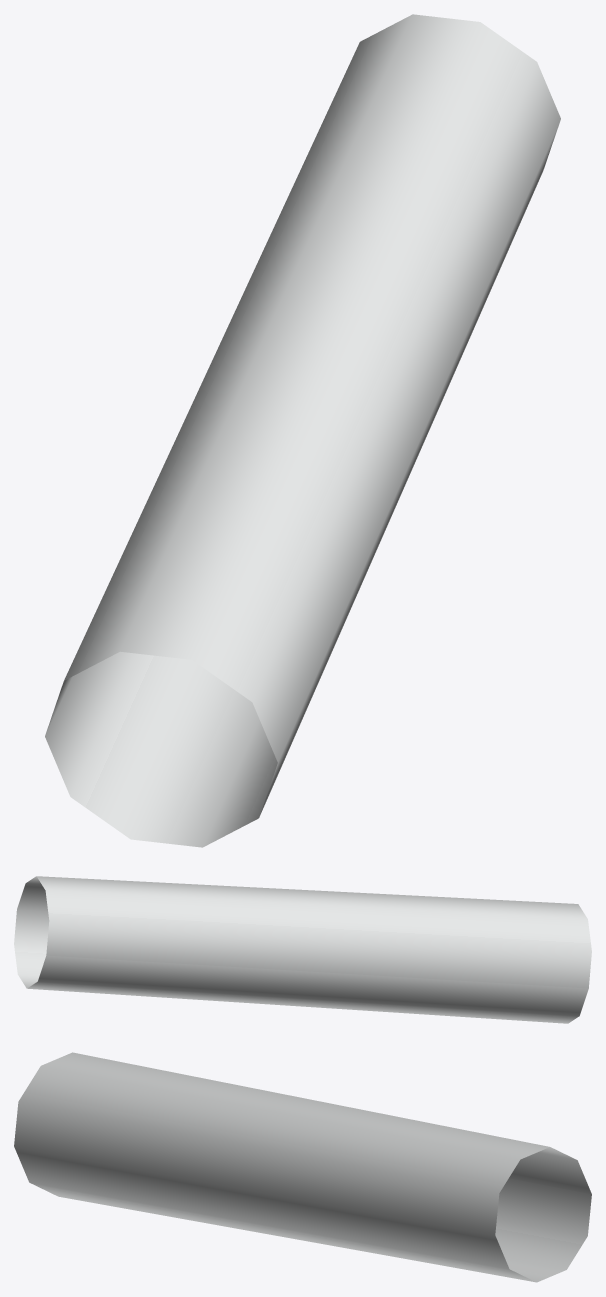
Rendered from nycsignalarm_diagonal6_c5.obj.
3 renders of one model, top to bottom at view 1: azimuth 30°, elevation 25°; view 2: azimuth 150°, elevation 25°; view 3: azimuth 270°, elevation 25°, orthographic. The views are drawn at different scales.
Visible parts, largest first — view 1: nycsignalarm_diagonal6_c5; view 2: nycsignalarm_diagonal6_c5; view 3: nycsignalarm_diagonal6_c5.
Part boxes in pixels (x1,y1,x2,y2): nycsignalarm_diagonal6_c5: (45,14,560,847); nycsignalarm_diagonal6_c5: (14,876,591,1023); nycsignalarm_diagonal6_c5: (14,1052,591,1282).
Bounding box in the file's own units: 1.21 × 0.5344 × 1.21.
